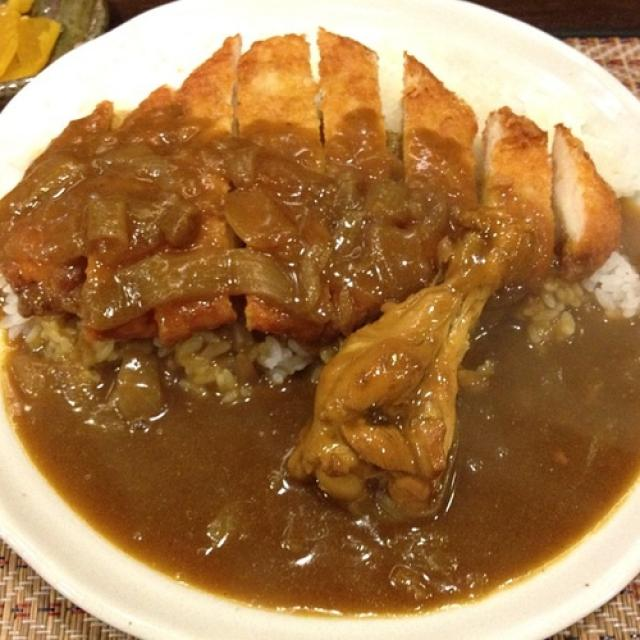鸡肉料理 含炸鸡: (18, 42, 608, 564)
